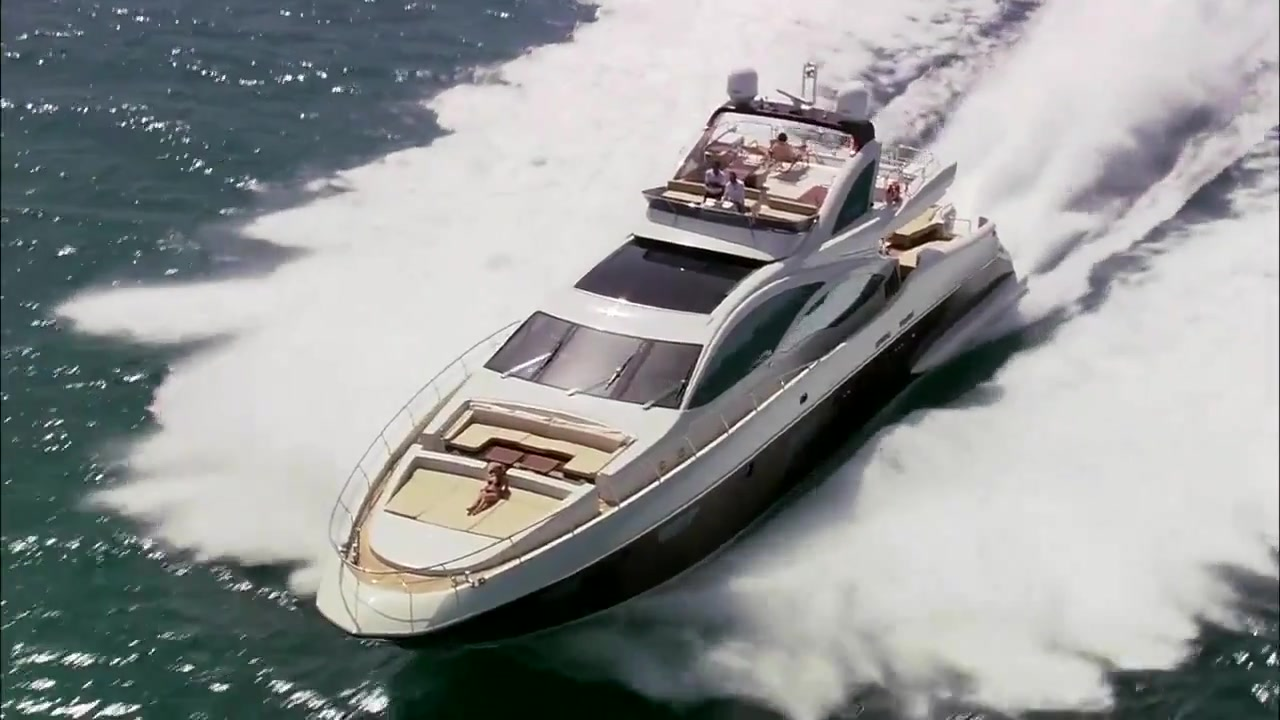boat: (314, 64, 1038, 667)
